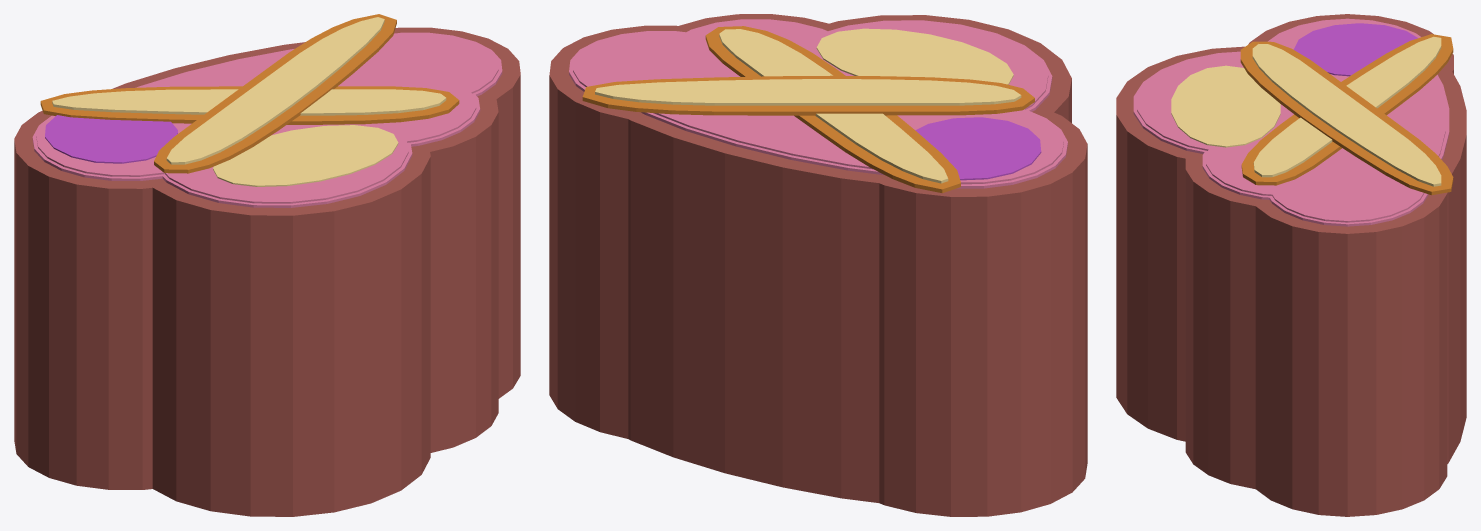
Rendered from bag_nuvem_por_do_sol.fbx.
The picture shows the model from 3 angles, left to right: view 1: azimuth 30°, elevation 25°; view 2: azimuth 150°, elevation 25°; view 3: azimuth 270°, elevation 25°; orthographic projection. The views are drawn at different scales.
Visible parts, largest first — view 1: bag_nuvem_por_do_sol_mochila; view 2: bag_nuvem_por_do_sol_mochila; view 3: bag_nuvem_por_do_sol_mochila.
Part boxes in pixels (<box>): bag_nuvem_por_do_sol_mochila: <box>14,14,520,516</box>; bag_nuvem_por_do_sol_mochila: <box>549,14,1087,516</box>; bag_nuvem_por_do_sol_mochila: <box>1116,14,1466,516</box>.
Bounding box in the file's own units: 3 × 1.89 × 2.02.
1 material, 1 textured.
